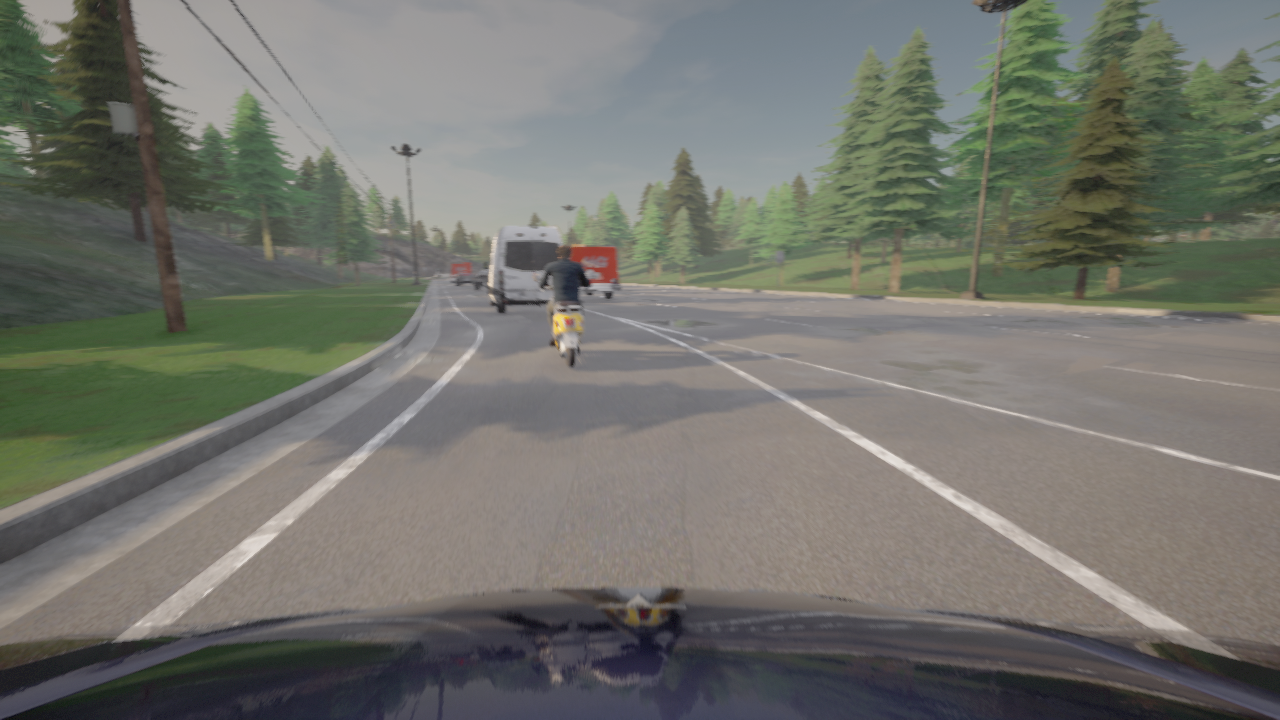cyclist: (0, 588, 1279, 719), (483, 226, 561, 314), (533, 270, 593, 368), (568, 246, 620, 298), (449, 263, 471, 283), (473, 270, 488, 290), (455, 272, 474, 285)
